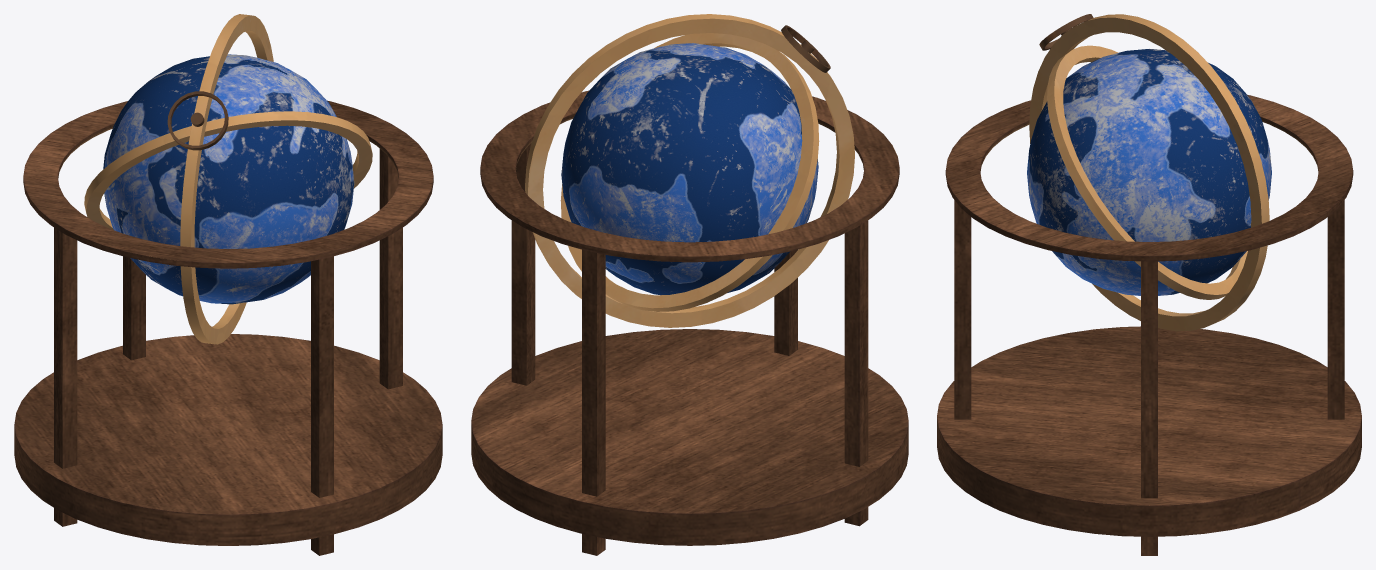
Rendered from MaquetaTierra_highpoly.fbx.
The picture shows the model from 3 angles, left to right: view 1: azimuth 30°, elevation 25°; view 2: azimuth 150°, elevation 25°; view 3: azimuth 270°, elevation 25°; orthographic projection. The views are drawn at different scales.
Visible parts, largest first — view 1: Cylinder.073; view 2: Cylinder.073; view 3: Cylinder.073.
Part boxes in pixels (left/top/right/bottom): Cylinder.073: left=14, top=14, right=442, bottom=555; Cylinder.073: left=471, top=14, right=908, bottom=555; Cylinder.073: left=937, top=14, right=1361, bottom=555.
Bounding box in the file's own units: 99.53 × 116 × 99.53.
